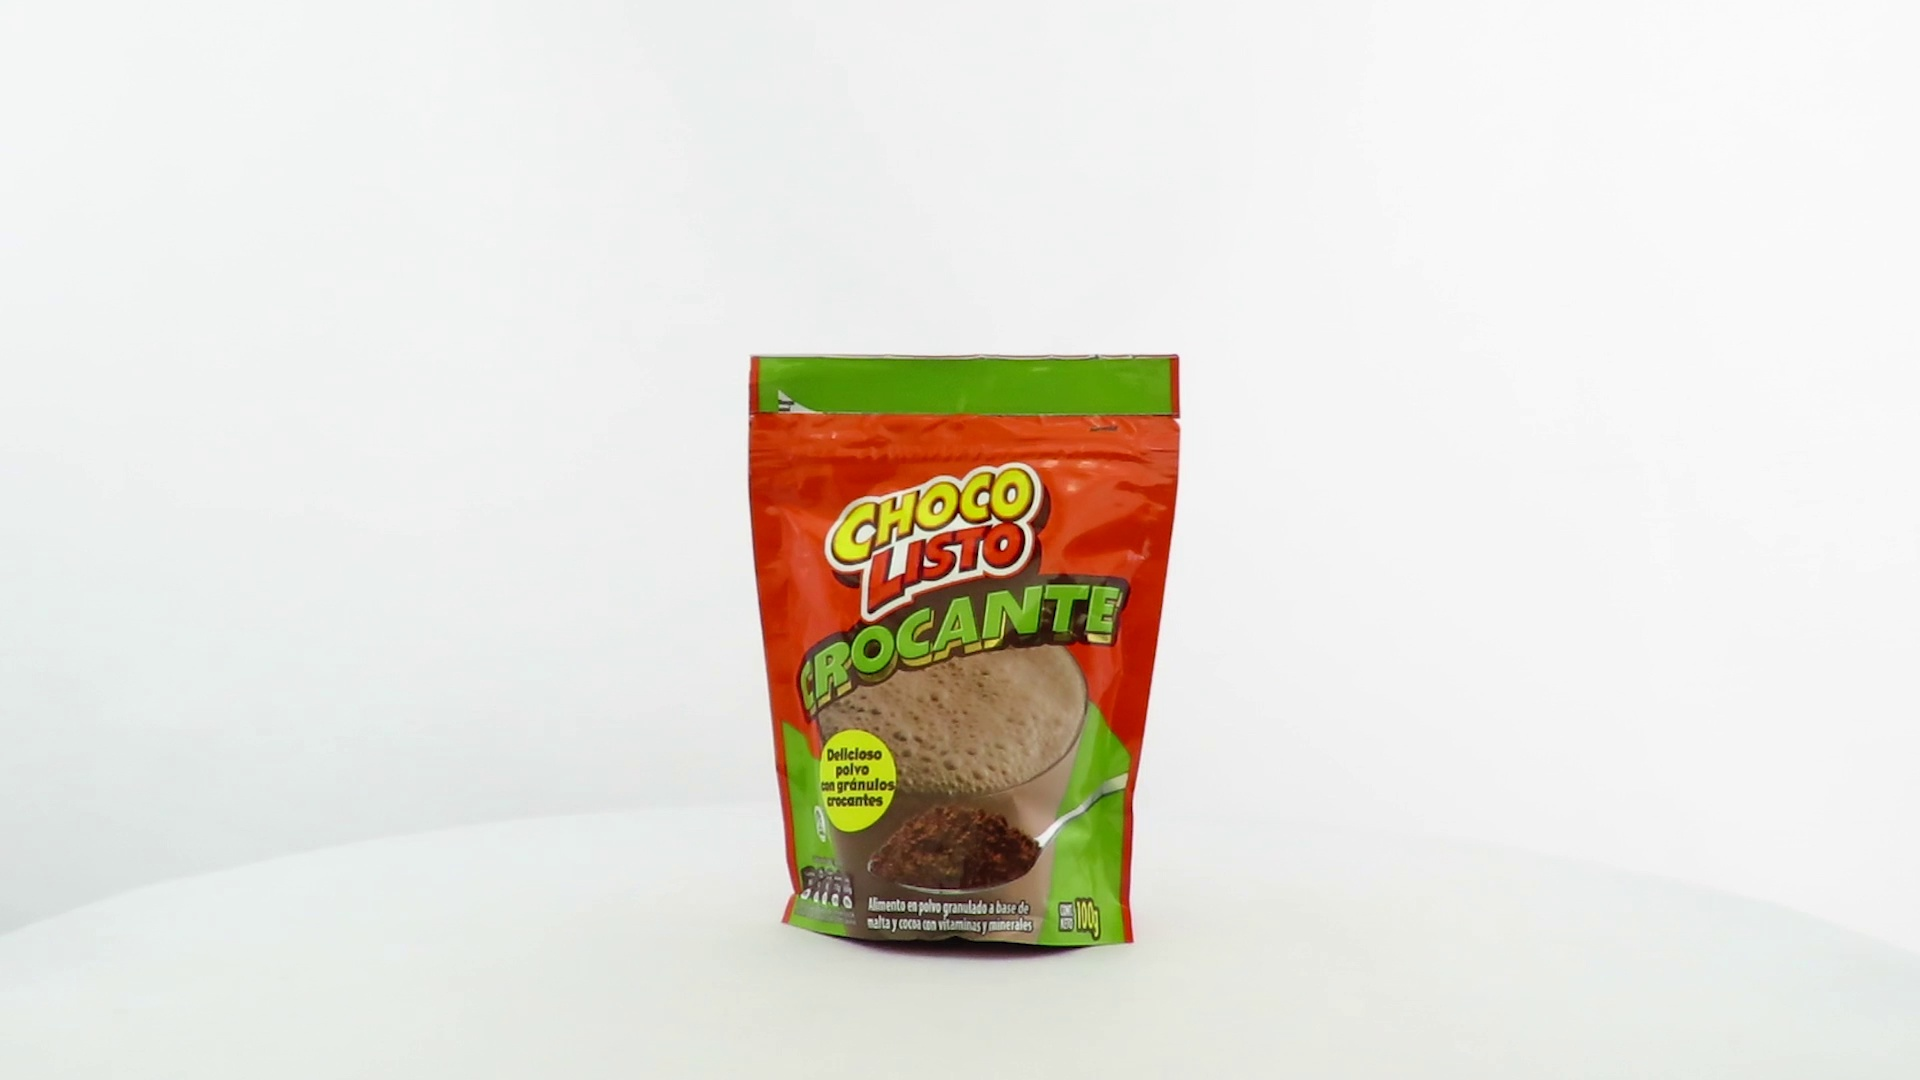COL0170102DYP10000: (742, 348, 1187, 967)
